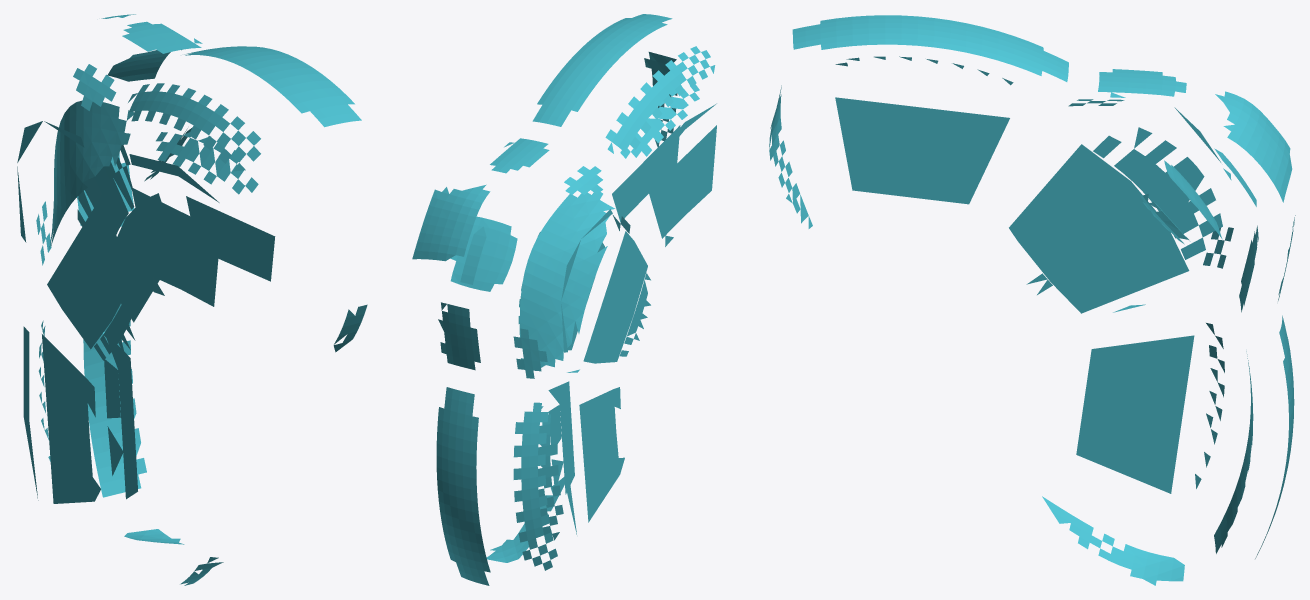
3 renders of one model, left to right at view 1: azimuth 30°, elevation 25°; view 2: azimuth 150°, elevation 25°; view 3: azimuth 270°, elevation 25°, orthographic. The views are drawn at different scales.
Visible parts, largest first — view 1: Renderer Node; view 2: Renderer Node; view 3: Renderer Node.
Boxes of the visible parts, bbox=[...] form: Renderer Node: bbox=[17, 14, 367, 585]; Renderer Node: bbox=[412, 14, 716, 585]; Renderer Node: bbox=[769, 15, 1295, 585].
Bounding box in the file's own units: 0.2021 × 0.6838 × 0.6156.
1 material, 1 textured.
